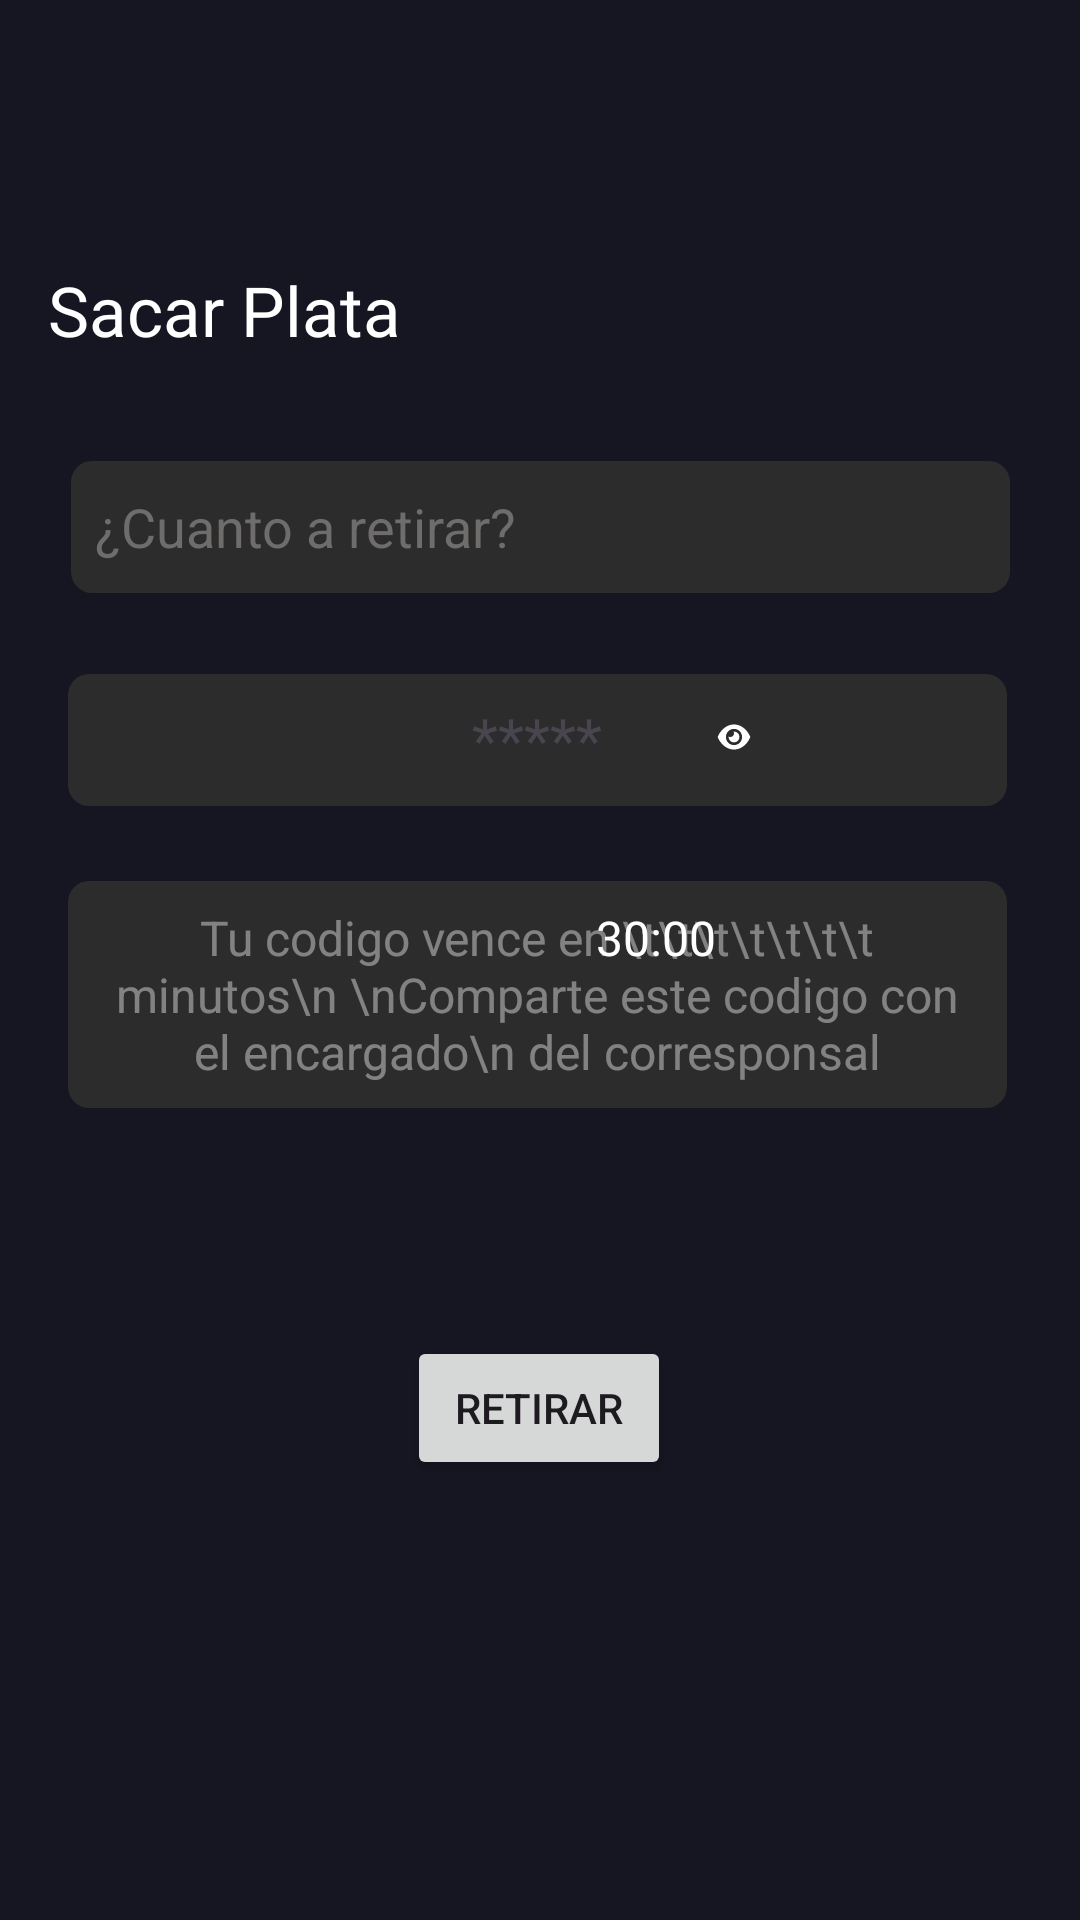

Where icons sit on this 1080x1920 app screen, as (x1, y1, x2, y2):
eye full: (717, 724, 751, 750)
